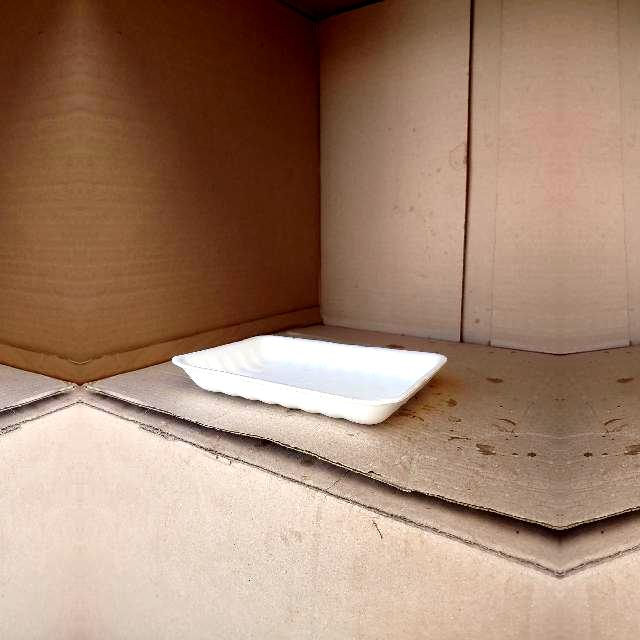Styrofoam: (172, 335, 446, 425), (171, 336, 447, 424)
